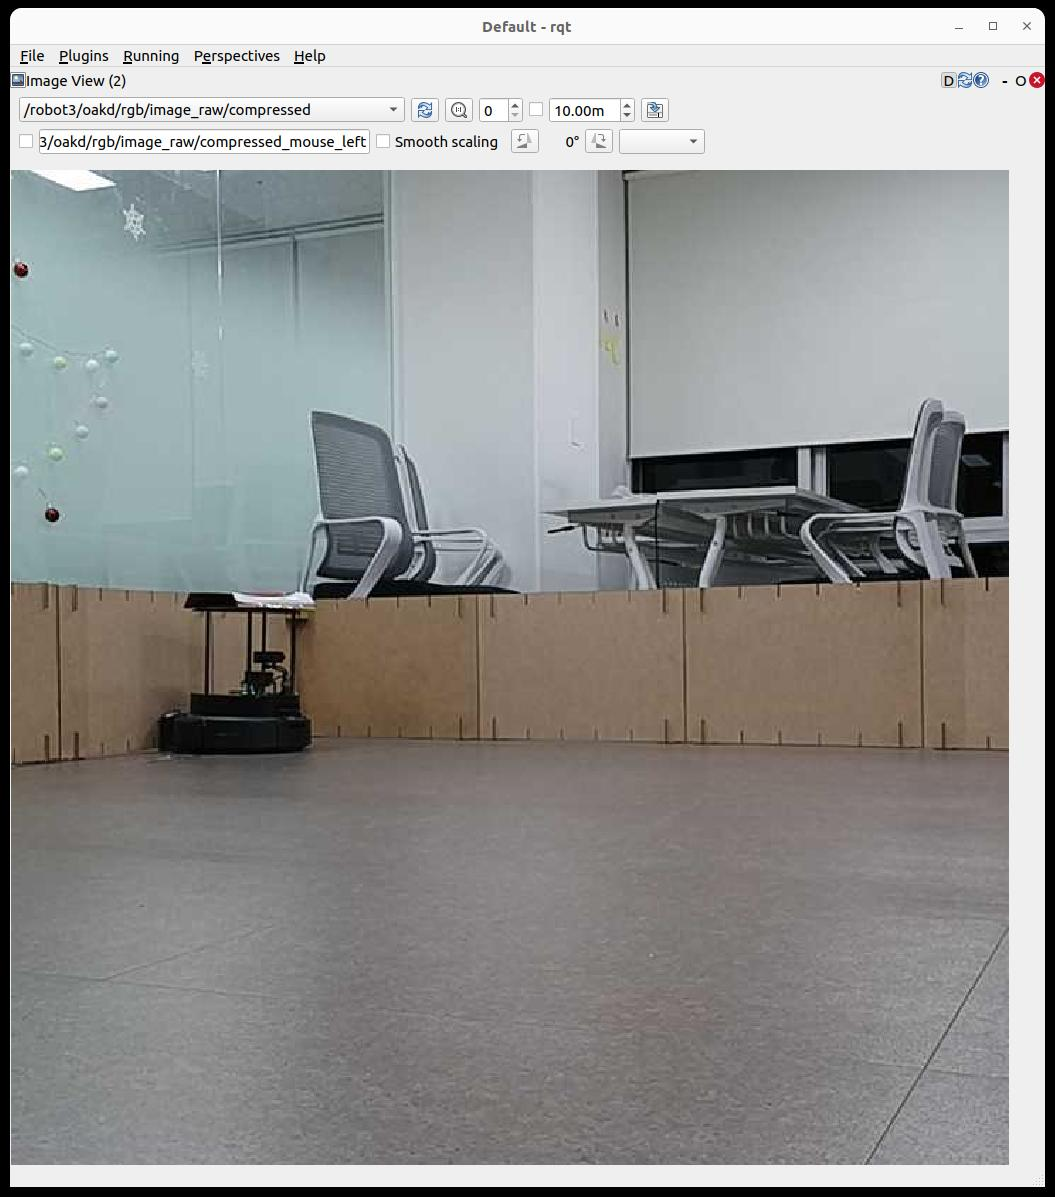AED: (233, 591, 314, 609)
